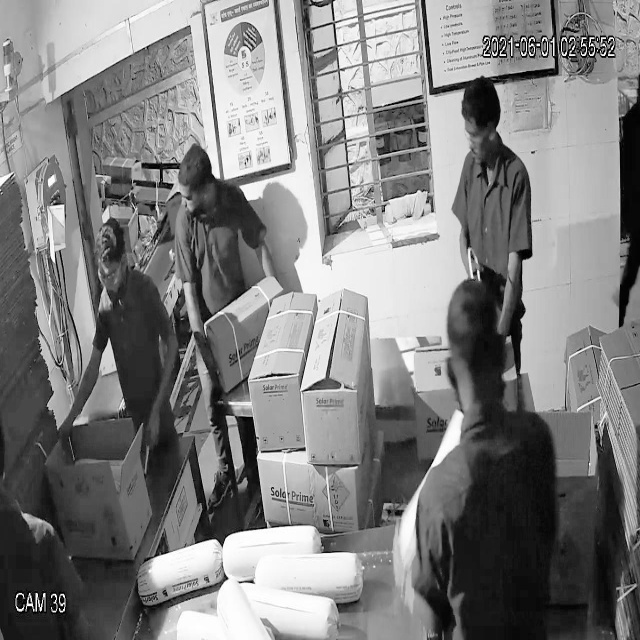Gafas: (92, 257, 132, 292)
